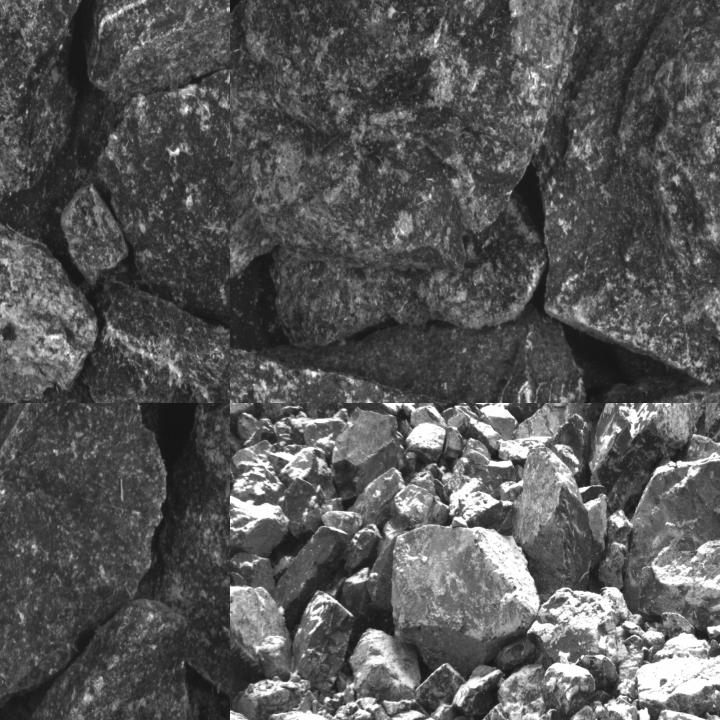stone: (230, 0, 591, 272), (535, 0, 719, 383), (0, 403, 169, 719), (272, 190, 544, 346), (98, 67, 229, 353), (230, 311, 592, 402), (150, 403, 229, 705), (0, 174, 100, 402), (15, 600, 202, 719), (391, 529, 537, 662), (81, 282, 229, 402), (0, 0, 83, 193), (77, 0, 229, 99), (510, 446, 602, 594), (624, 455, 719, 596), (589, 403, 702, 510), (230, 91, 279, 312), (268, 523, 351, 626), (230, 583, 292, 714), (635, 537, 719, 627), (532, 590, 624, 664), (292, 592, 357, 692), (61, 188, 127, 284), (331, 408, 399, 500), (635, 649, 719, 717), (354, 629, 423, 700), (230, 479, 290, 555), (281, 479, 346, 539), (231, 441, 287, 507), (540, 662, 596, 719), (452, 480, 514, 530), (391, 484, 450, 531), (239, 680, 307, 719), (499, 665, 546, 719), (280, 446, 337, 490), (454, 664, 502, 716), (413, 665, 464, 709), (305, 403, 416, 421), (9, 384, 114, 402), (405, 424, 445, 463), (481, 404, 517, 441), (260, 635, 289, 680), (507, 403, 554, 418), (420, 403, 460, 413)
